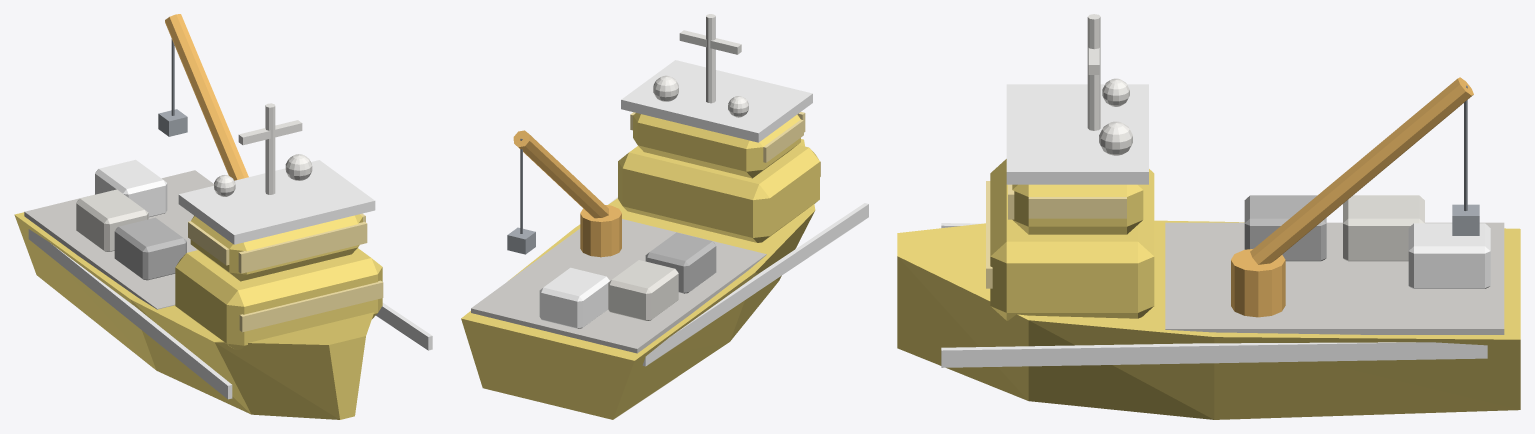
File: boatEng.glb
3 renders of one model, left to right at view 1: azimuth 30°, elevation 25°; view 2: azimuth 150°, elevation 25°; view 3: azimuth 270°, elevation 25°, orthographic. The views are drawn at different scales.
Parts seen in each view (by area): view 1: main; view 2: main; view 3: main.
Boxes of the visible parts, bbox=[...] form: main: bbox=[14, 14, 432, 419]; main: bbox=[461, 14, 868, 419]; main: bbox=[897, 14, 1520, 419].
Bounding box in the file's own units: 0.552 × 0.73 × 1.14.
